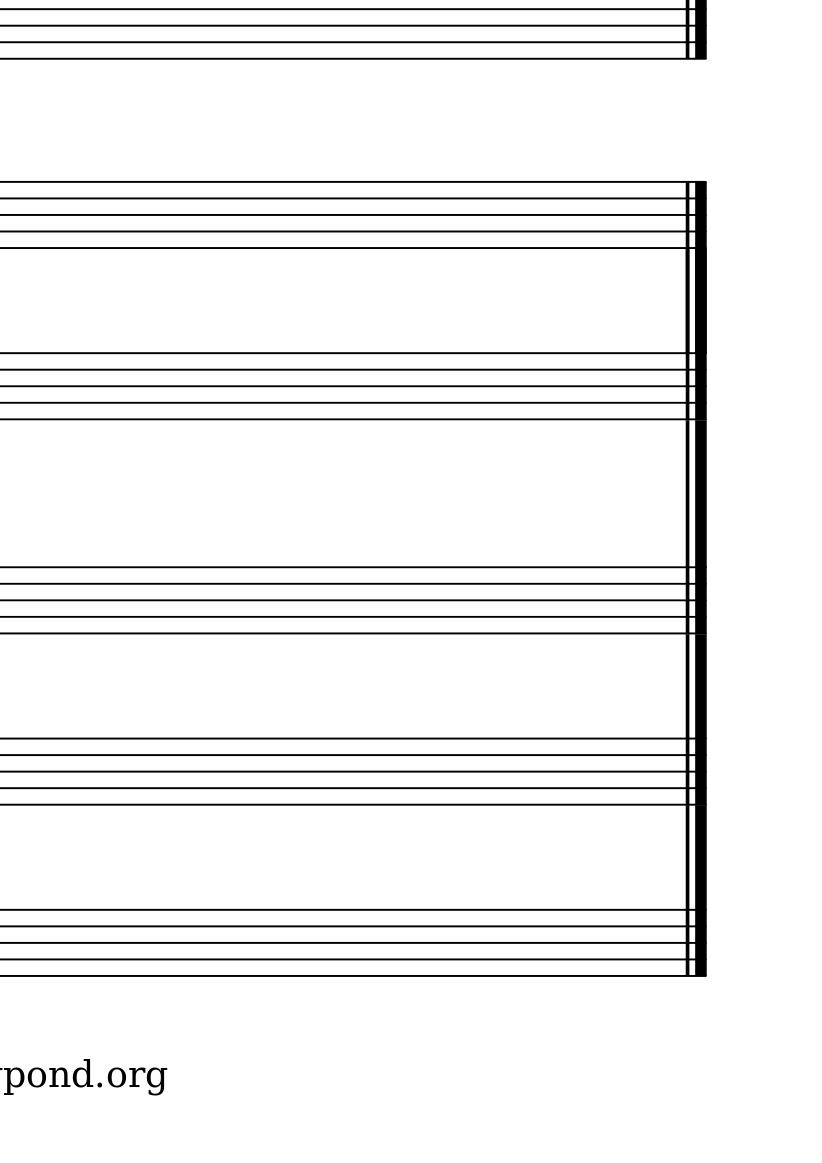Final_barline: (679, 736, 709, 804), (679, 352, 709, 419), (680, 179, 709, 248), (680, 564, 709, 632), (680, 907, 708, 976), (681, 1, 709, 60)
